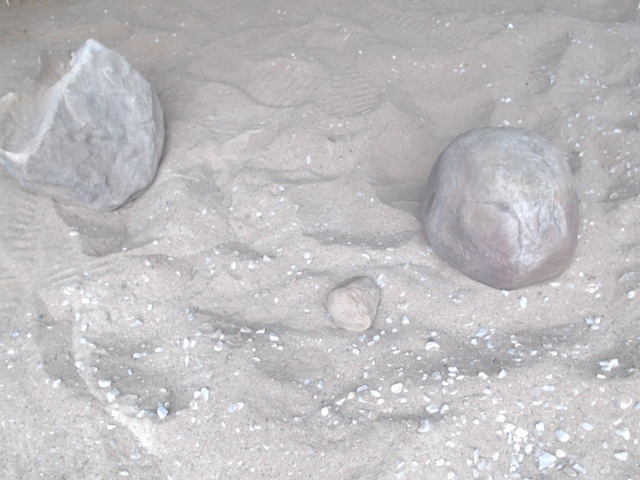rock: (1, 33, 171, 218), (412, 121, 585, 297), (322, 272, 386, 338)
